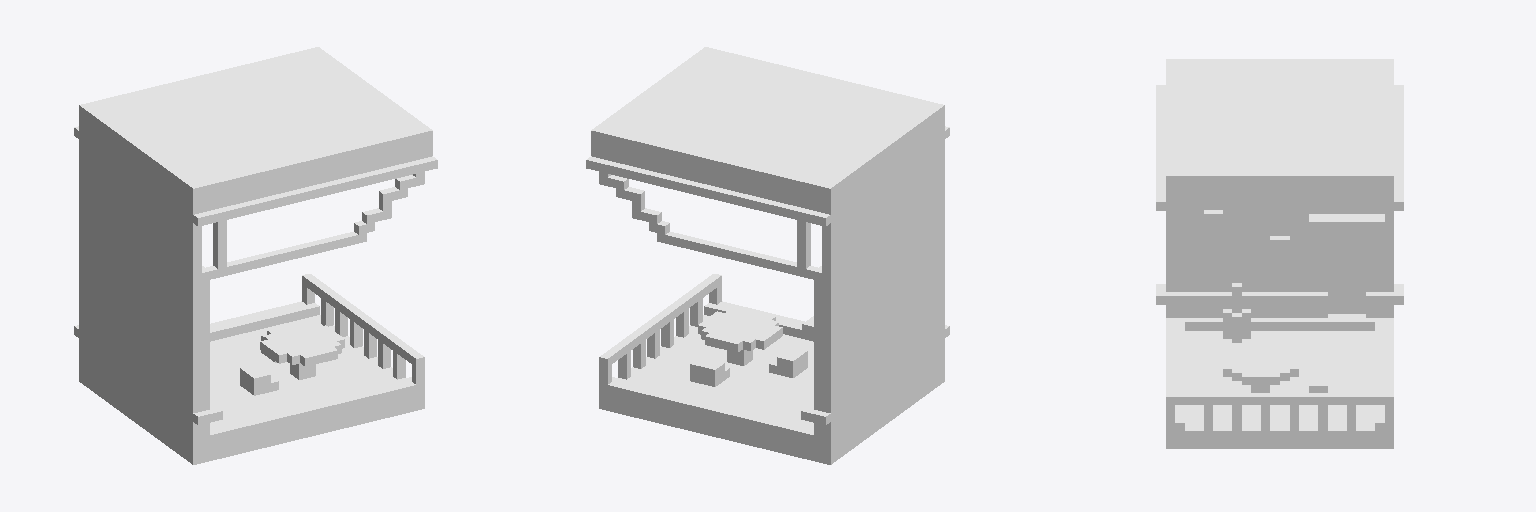
File: tile_3_left.obj
The picture shows the model from 3 angles: view 1: azimuth 30°, elevation 25°; view 2: azimuth 150°, elevation 25°; view 3: azimuth 270°, elevation 25°; orthographic projection.
Visible parts, largest first — view 1: object 1; view 2: object 1; view 3: object 1.
Boxes of the visible parts, x1=… form: object 1: x1=74, y1=47, x2=437, y2=464; object 1: x1=586, y1=47, x2=949, y2=464; object 1: x1=1156, y1=59, x2=1403, y2=448.
Bounding box in the file's own units: 2.9 × 3.2 × 2.6.